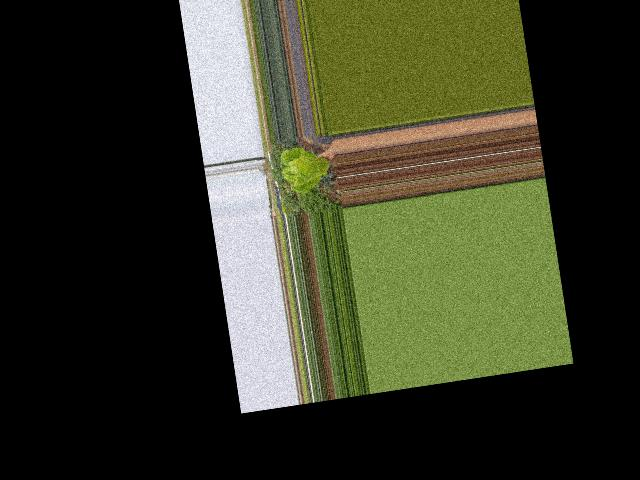lettuce: (278, 140, 336, 197)
